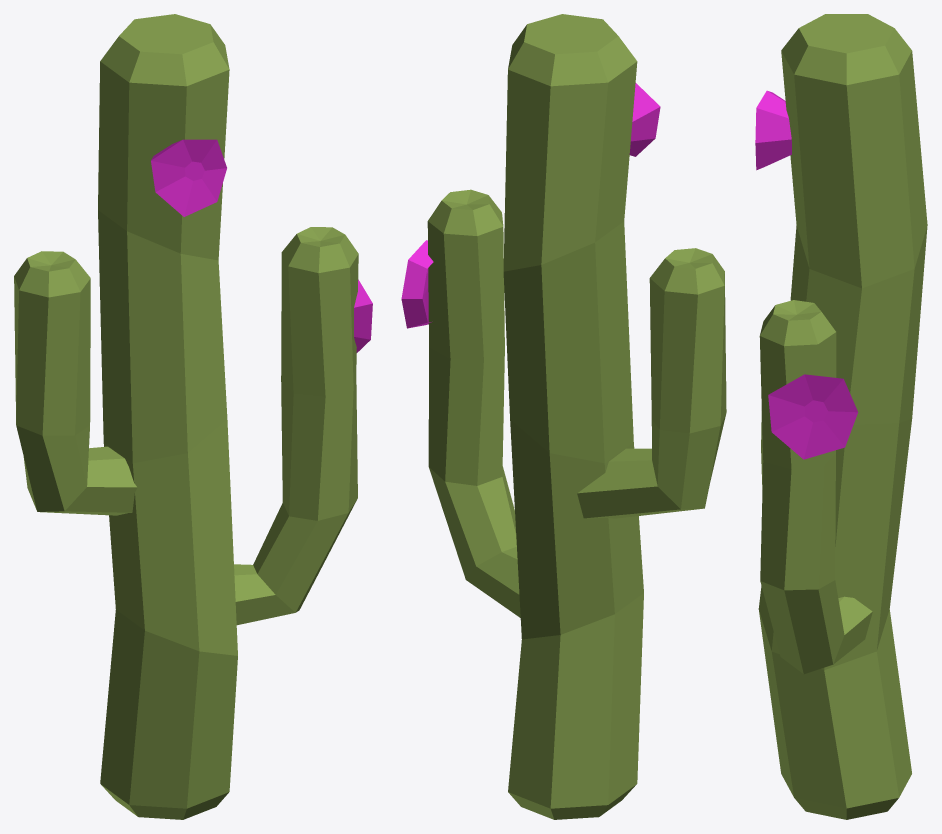
Rendered from cactus_01.fbx.
3 views of the same model, side by side, from view 1: azimuth 30°, elevation 25°; view 2: azimuth 150°, elevation 25°; view 3: azimuth 270°, elevation 25° (orthographic).
Parts seen in each view (by area): view 1: cactus_01; view 2: cactus_01; view 3: cactus_01.
Part boxes in pixels (x1,y1,x2,y2): cactus_01: (14,14,372,819); cactus_01: (401,14,726,819); cactus_01: (755,14,927,819).
Bounding box in the file's own units: 149 × 342 × 69.7.
